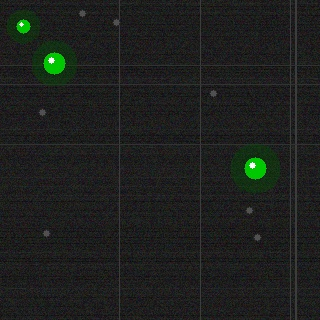green_normal: (242, 155, 268, 181), (41, 50, 67, 76), (14, 17, 32, 35)
